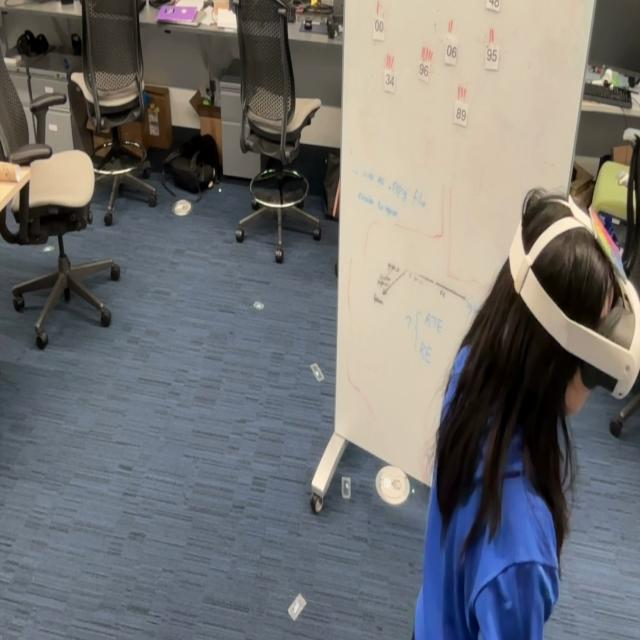Headset: (508, 187, 640, 399)
Marker: (586, 202, 630, 280)
